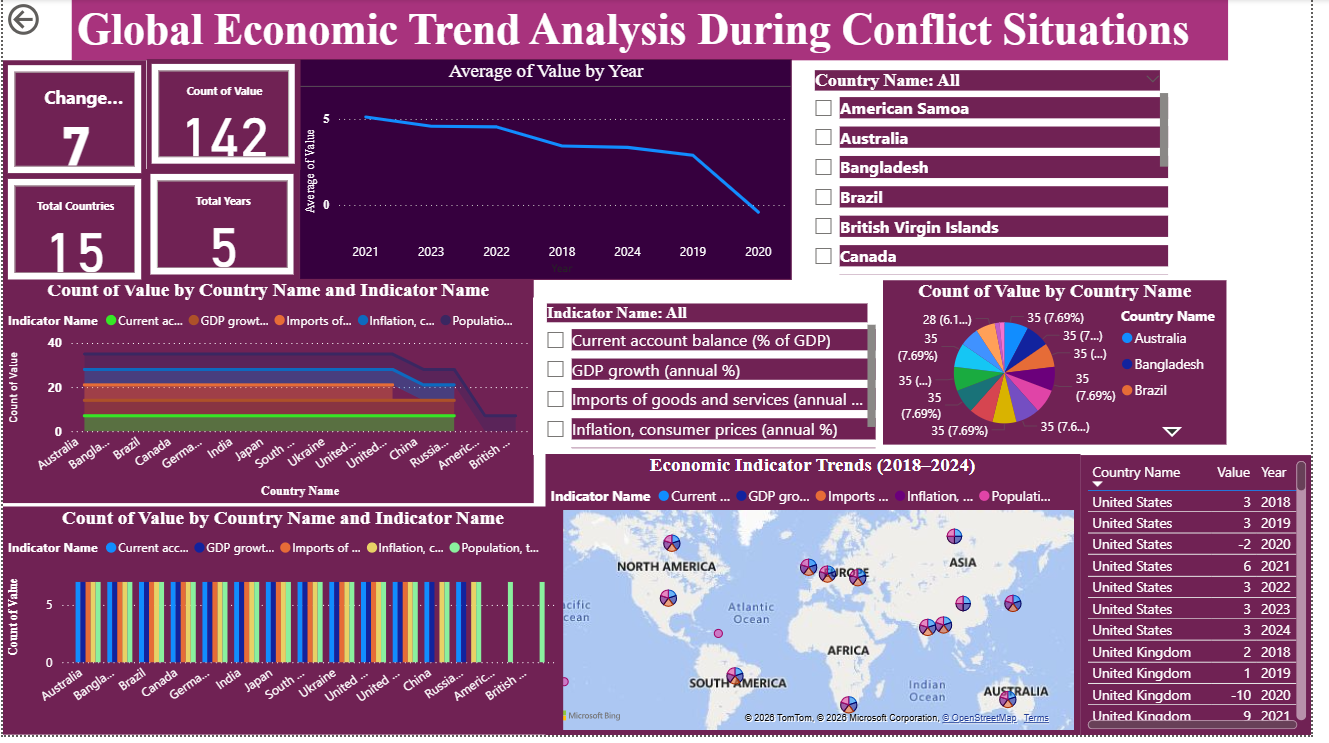

The dashboard page shown, as its layout file describes it:
{"tool":"powerbi","page":{"name":"Page 1","canvas":[1280,720],"ordinal":0},"visuals":[{"type":"textbox","box":[67.5,0,1131.2,60],"z":0},{"type":"lineChart","fields":{"Category":["world development indicator csv.Year"],"Y":["CountNonNull(world development indicator csv.Value)"],"Series":["world development indicator csv.Indicator Name"]},"box":[290,58.8,481.2,216.2],"z":1000},{"type":"slicer","fields":{"Values":["world development indicator csv.Country Name"]},"box":[791.2,63.8,336.2,216.2],"z":2000},{"type":"stackedAreaChart","fields":{"Category":["world development indicator csv.Country Name"],"Series":["world development indicator csv.Indicator Name"],"Y":["CountNonNull(world development indicator csv.Value)"]},"box":[0,274.4,518.9,218.9],"z":3000},{"type":"cardVisual","fields":{"Data":["Count(world development indicator csv.Year)"]},"box":[0,60,140,115],"z":4000},{"type":"cardVisual","fields":{"Data":["Count(world development indicator csv.Country Name)"]},"box":[0,171.2,140,108.8],"z":5000},{"type":"slicer","fields":{"Values":["world development indicator csv.Indicator Name"]},"box":[518.9,292.2,341.1,153.3],"z":6000},{"type":"cardVisual","fields":{"Data":["Count(world development indicator csv.Indicator Name)"]},"box":[140,166.2,150,108.8],"z":7000},{"type":"cardVisual","fields":{"Data":["Count(world development indicator csv.Value)"]},"box":[140,57.5,150,115],"z":8000},{"type":"map","title":"Economic Indicator Trends (2018–2024)","fields":{"Size":["CountNonNull(world development indicator csv.Value)"],"Category":["world development indicator csv.Country Code"],"Series":["world development indicator csv.Indicator Name"]},"box":[547.8,445.6,635.6,274.4],"z":9000},{"type":"clusteredColumnChart","fields":{"Category":["world development indicator csv.Country Name"],"Series":["world development indicator csv.Indicator Name"],"Y":["CountNonNull(world development indicator csv.Value)"]},"box":[0,496.7,547.8,223.3],"z":10000},{"type":"pieChart","fields":{"Category":["world development indicator csv.Country Name"],"Y":["CountNonNull(world development indicator csv.Value)"]},"box":[862.2,280,336.7,160],"z":11000}]}

Visuals, with their boxes in screenshot pixels (x1, y1, x2, y2), scaled from the page's 1280x720 canvas onto the 1329x743 screenshot:
textbox: 70/0/1245/62
lineChart - world development indicator csv.Year x CountNonNull(world development indicator csv.Value): 301/61/801/284
slicer - world development indicator csv.Country Name: 821/66/1171/289
stackedAreaChart - world development indicator csv.Country Name x world development indicator csv.Indicator Name: 0/283/539/509
cardVisual - Count(world development indicator csv.Year): 0/62/145/181
cardVisual - Count(world development indicator csv.Country Name): 0/177/145/289
slicer - world development indicator csv.Indicator Name: 539/302/893/460
cardVisual - Count(world development indicator csv.Indicator Name): 145/172/301/284
cardVisual - Count(world development indicator csv.Value): 145/59/301/178
"Economic Indicator Trends (2018–2024)" map: 569/460/1229/742
clusteredColumnChart - world development indicator csv.Country Name x world development indicator csv.Indicator Name: 0/513/569/742
pieChart - world development indicator csv.Country Name x CountNonNull(world development indicator csv.Value): 895/289/1245/454
